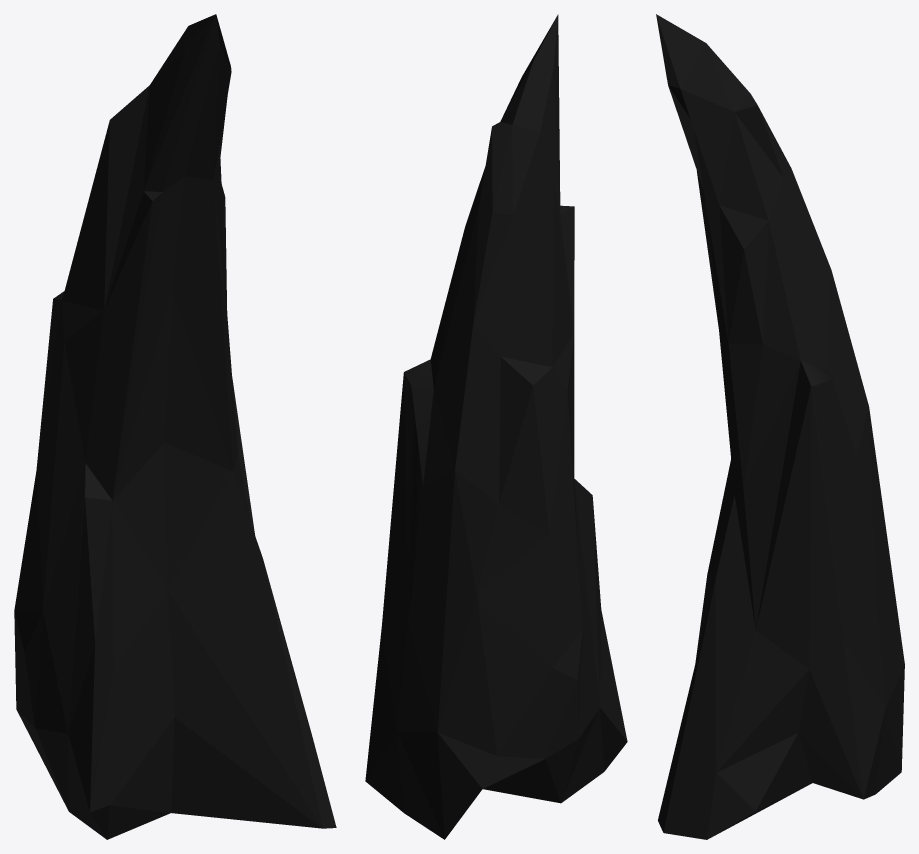
The model's file is pit_obelisk_a.gltf.
The picture shows the model from 3 angles, left to right: view 1: azimuth 30°, elevation 25°; view 2: azimuth 150°, elevation 25°; view 3: azimuth 270°, elevation 25°; orthographic projection. The views are drawn at different scales.
Parts seen in each view (by area): view 1: pit_obelisk_a; view 2: pit_obelisk_a; view 3: pit_obelisk_a.
Part boxes in pixels (x1,y1,x2,y2): pit_obelisk_a: (14,14,336,839); pit_obelisk_a: (365,14,627,839); pit_obelisk_a: (656,14,904,839).
Size of the model in its own units: 4.26 by 13.99 by 4.13.
1 material, 1 textured.
